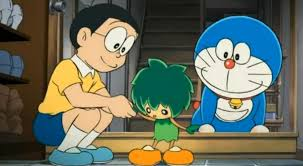doraemon: (189, 14, 283, 135)
